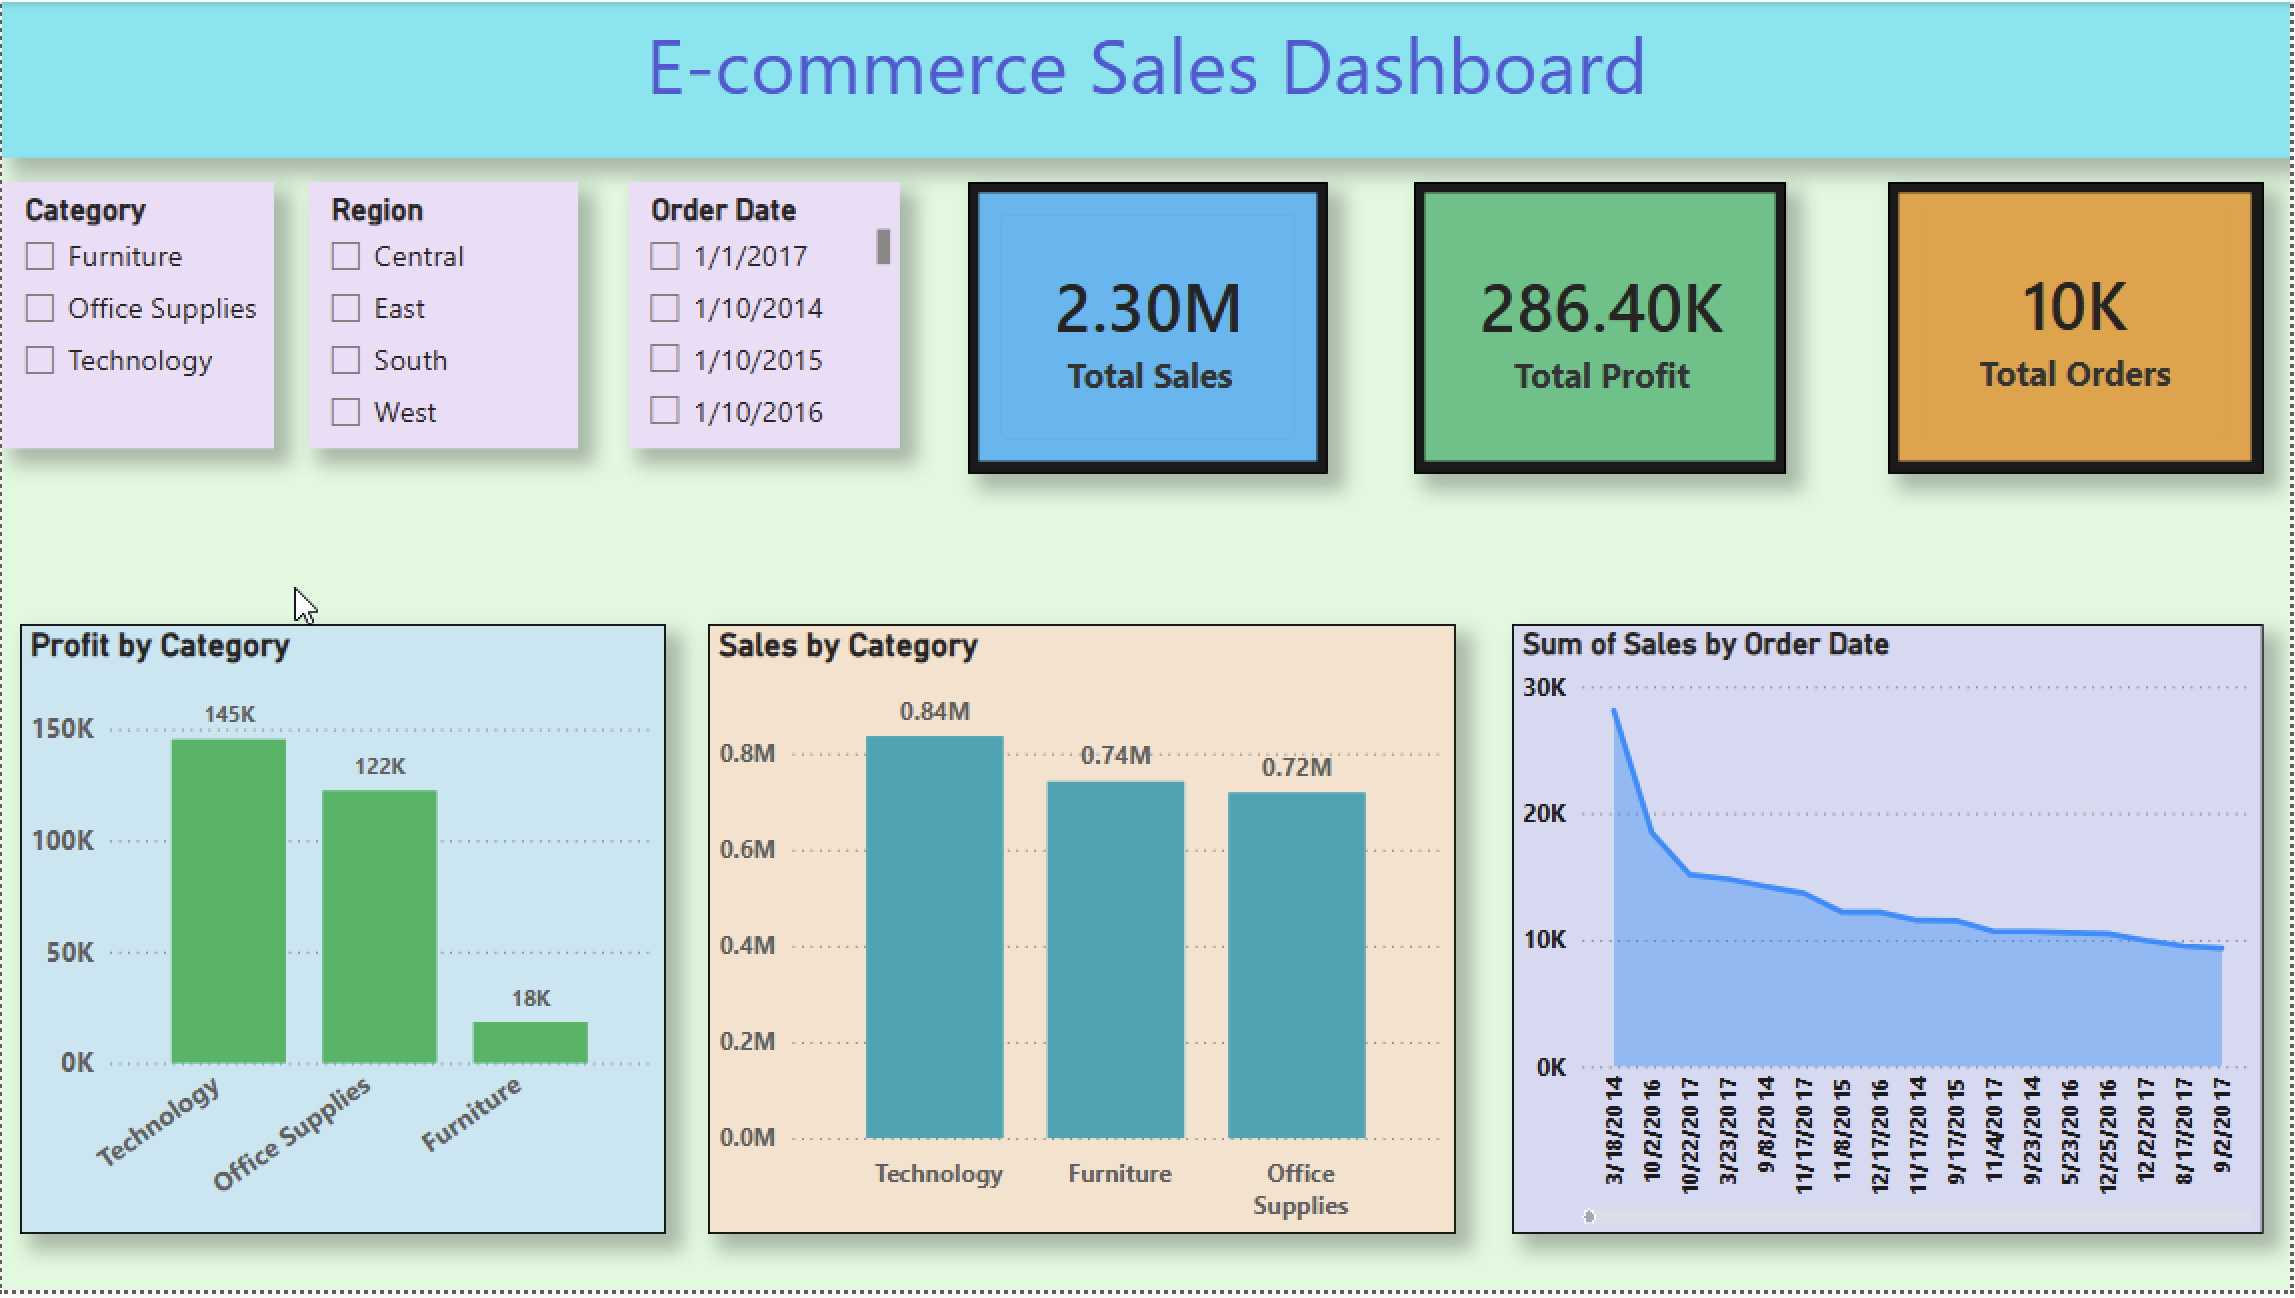

What the dashboard file says about the page in this screenshot:
{"tool":"powerbi","page":{"name":"Page 1","canvas":[1280,720],"ordinal":0},"visuals":[{"type":"textbox","box":[0,0,1280,87.3],"z":0},{"type":"cardVisual","fields":{"Data":["Sample - Superstore.Total Sales"]},"box":[539.5,100.5,201,162.6],"z":1},{"type":"cardVisual","fields":{"Data":["Sample - Superstore.Total Profit"]},"box":[789.3,100.5,208.4,162.6],"z":2},{"type":"cardVisual","fields":{"Data":["Sample - Superstore.Total Orders"]},"box":[1053.9,100.5,209.9,162.6],"z":3},{"type":"lineChart","fields":{"Category":["Sample - Superstore.Order Date"],"Y":["Sum(Sample - Superstore.Sales)"]},"box":[844,347.3,419.8,341.4],"z":4},{"type":"clusteredColumnChart","title":" Sales by Category","fields":{"Category":["Sample - Superstore.Category"],"Y":["Sum(Sample - Superstore.Sales)"]},"box":[394.6,347.3,418.3,341.4],"z":5},{"type":"clusteredColumnChart","title":" Profit by Category","fields":{"Category":["Sample - Superstore.Category"],"Y":["Sum(Sample - Superstore.Profit)"]},"box":[10.3,347.3,360.6,341.4],"z":6},{"type":"slicer","fields":{"Values":["Sample - Superstore.Category"]},"box":[0,100.5,152.2,149.3],"z":7},{"type":"slicer","fields":{"Values":["Sample - Superstore.Region"]},"box":[171.5,100.5,150.8,149.3],"z":8},{"type":"slicer","fields":{"Values":["Sample - Superstore.Order Date"]},"box":[350.3,100.5,152.2,149.3],"z":9}]}

Visuals, with their boxes in screenshot pixels (x1, y1, x2, y2), scaled from the page's 1280x720 canvas onto the 2295x1298 screenshot:
textbox: bbox=(0, 0, 2294, 157)
cardVisual - Sample - Superstore.Total Sales: bbox=(967, 181, 1328, 474)
cardVisual - Sample - Superstore.Total Profit: bbox=(1415, 181, 1789, 474)
cardVisual - Sample - Superstore.Total Orders: bbox=(1890, 181, 2266, 474)
lineChart - Sample - Superstore.Order Date x Sum(Sample - Superstore.Sales): bbox=(1513, 626, 2266, 1242)
" Sales by Category" clusteredColumnChart: bbox=(708, 626, 1458, 1242)
" Profit by Category" clusteredColumnChart: bbox=(18, 626, 665, 1242)
slicer - Sample - Superstore.Category: bbox=(0, 181, 273, 450)
slicer - Sample - Superstore.Region: bbox=(307, 181, 578, 450)
slicer - Sample - Superstore.Order Date: bbox=(628, 181, 901, 450)
